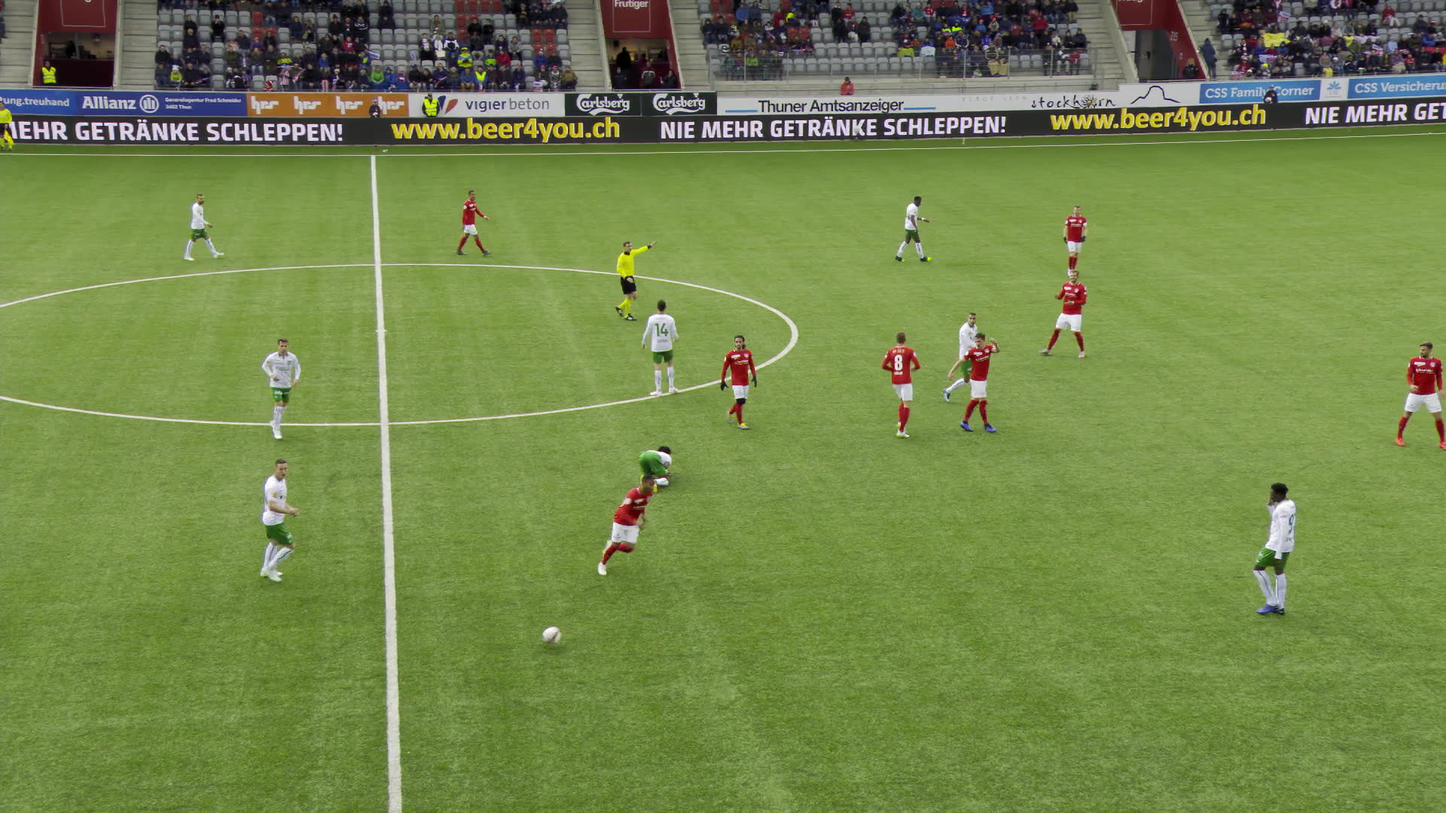ball: (541, 629, 560, 646)
player: (1235, 483, 1298, 619), (590, 473, 654, 579), (252, 459, 297, 583), (947, 330, 1000, 435), (1394, 342, 1445, 448), (1041, 265, 1090, 360), (880, 328, 920, 440), (718, 334, 760, 431), (261, 338, 300, 440), (642, 299, 681, 395), (942, 312, 981, 403), (894, 193, 932, 263), (185, 193, 224, 261), (457, 189, 487, 256), (1061, 203, 1088, 277), (638, 446, 673, 492)
referee: (613, 238, 657, 321), (0, 100, 14, 151)
